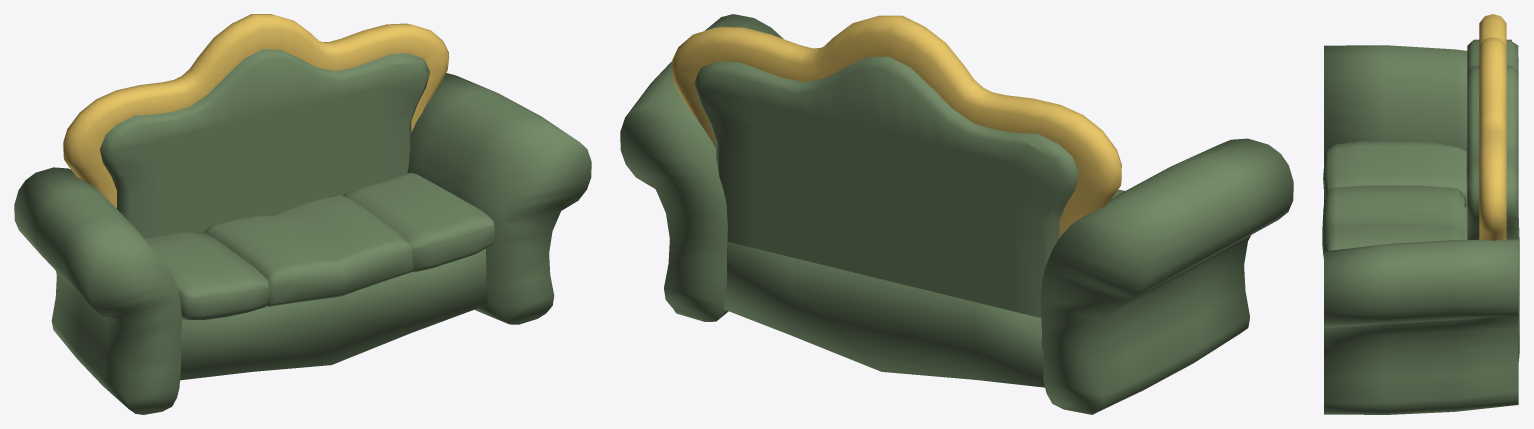
Rendered from props_couch.fbx.
3 renders of one model, left to right at view 1: azimuth 30°, elevation 25°; view 2: azimuth 150°, elevation 25°; view 3: azimuth 270°, elevation 25°, orthographic. The views are drawn at different scales.
Visible parts, largest first — view 1: base_canap; view 2: base_canap; view 3: base_canap.
Part boxes in pixels (<box>): base_canap: <box>14,14,591,414</box>; base_canap: <box>620,14,1293,414</box>; base_canap: <box>1322,14,1519,414</box>.
Bounding box in the file's own units: 2.83 × 0.9897 × 1.58.
